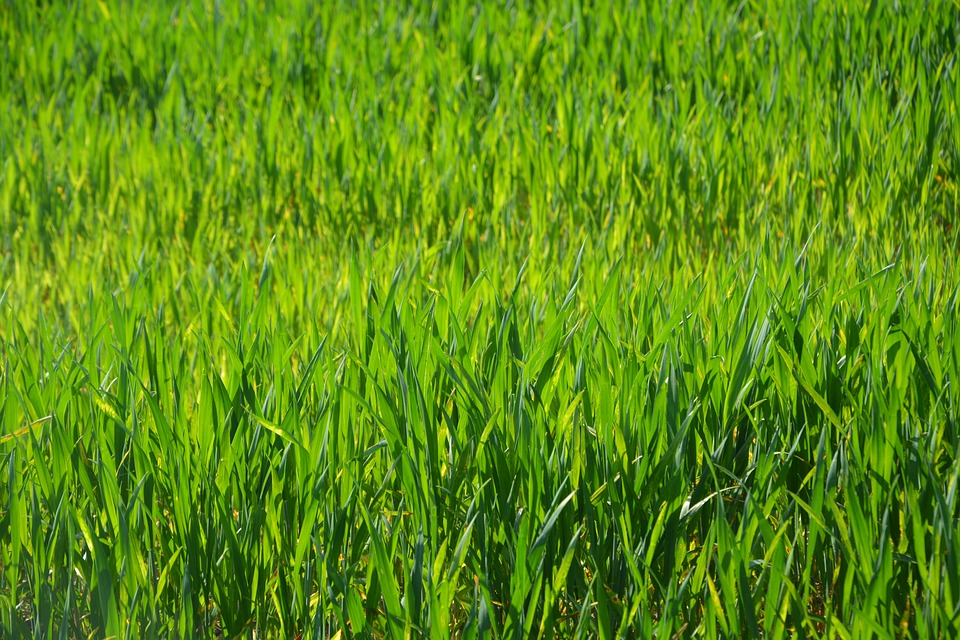Wheat: (176, 273, 905, 624)
